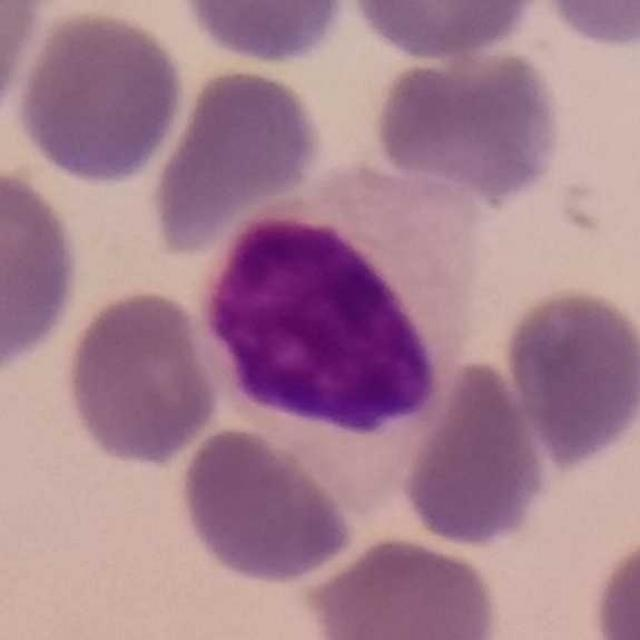Lymphocyte: (194, 165, 496, 521)
RBC: (146, 65, 327, 258), (368, 42, 569, 205), (11, 7, 188, 188), (174, 422, 358, 588), (59, 285, 223, 469), (399, 354, 552, 551), (500, 282, 640, 470), (300, 532, 503, 640), (0, 162, 86, 378), (343, 0, 545, 63), (173, 0, 355, 68), (0, 0, 51, 132), (586, 526, 640, 639), (535, 0, 639, 53)
